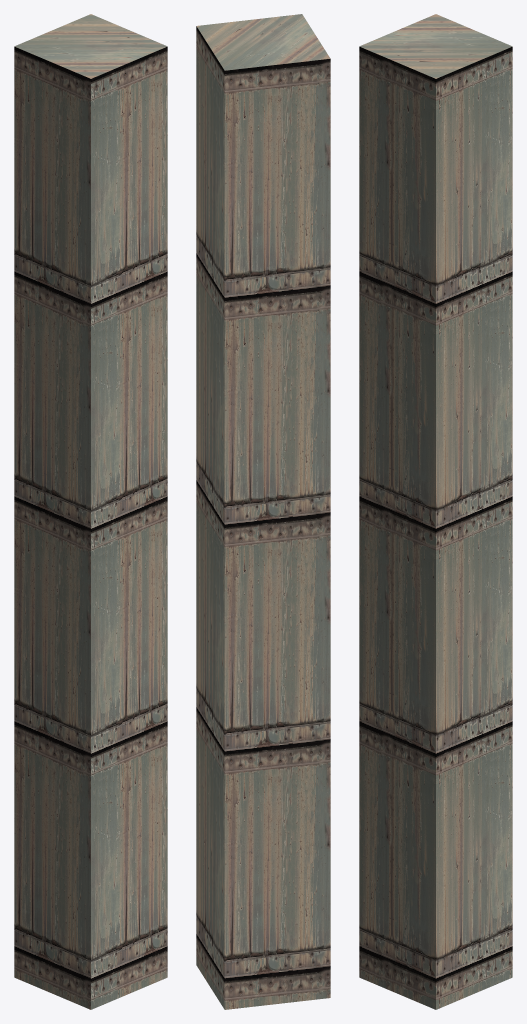
File: pipe_long_lod.fbx
The picture shows the model from 3 angles, left to right: view 1: azimuth 90°, elevation 25°; view 2: azimuth 150°, elevation 25°; view 3: azimuth 270°, elevation 25°; orthographic projection.
Visible parts, largest first — view 1: Mesh Object; view 2: Mesh Object; view 3: Mesh Object.
Part boxes in pixels (x1=…): Mesh Object: x1=14, y1=14, x2=167, y2=1009; Mesh Object: x1=196, y1=14, x2=330, y2=1009; Mesh Object: x1=359, y1=14, x2=512, y2=1009.
Bounding box in the file's own units: 0.704 × 4.71 × 0.704.
